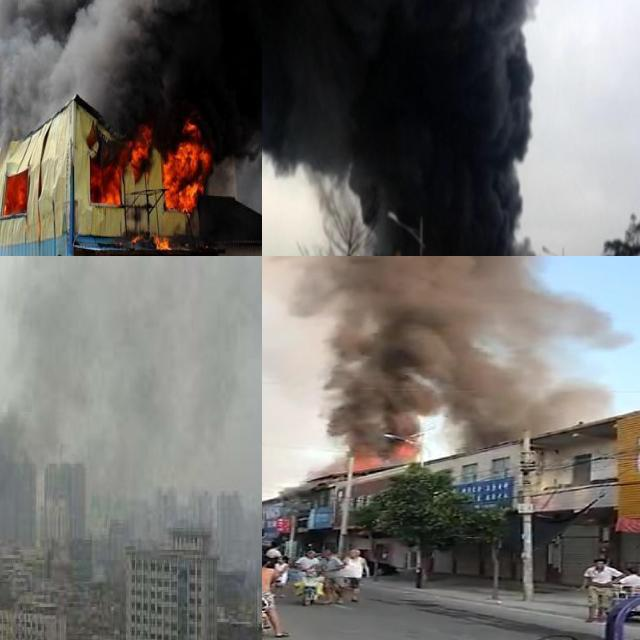fire: (95, 122, 212, 214), (161, 119, 209, 213), (348, 436, 416, 470), (2, 172, 28, 213), (152, 232, 170, 249)
smoke: (262, 0, 579, 256), (0, 256, 262, 556), (262, 256, 620, 464), (0, 0, 262, 206)
